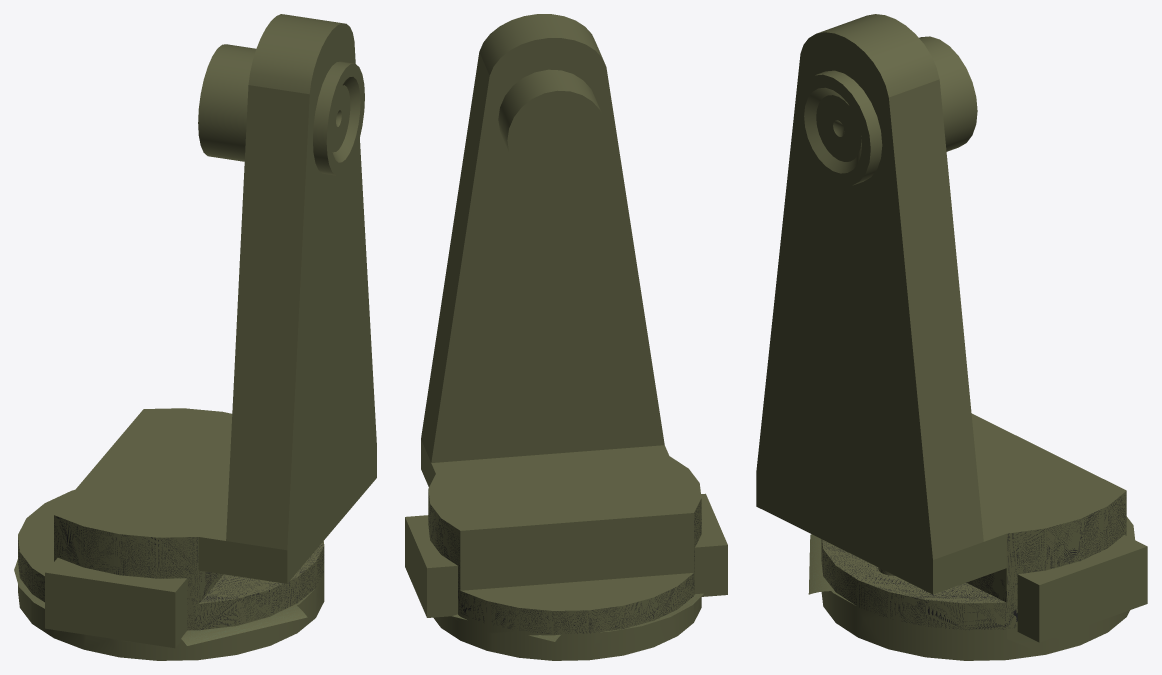
Rendered from gunRotate.fbx.
The picture shows the model from 3 angles, left to right: view 1: azimuth 30°, elevation 25°; view 2: azimuth 150°, elevation 25°; view 3: azimuth 270°, elevation 25°; orthographic projection. The views are drawn at different scales.
Parts seen in each view (by area): view 1: Model; view 2: Model; view 3: Model.
Boxes of the visible parts, bbox=[...] form: Model: bbox=[14, 14, 376, 660]; Model: bbox=[405, 14, 727, 660]; Model: bbox=[756, 14, 1147, 660].
Size of the model in its own units: 8.58 by 14.3 by 8.38.
